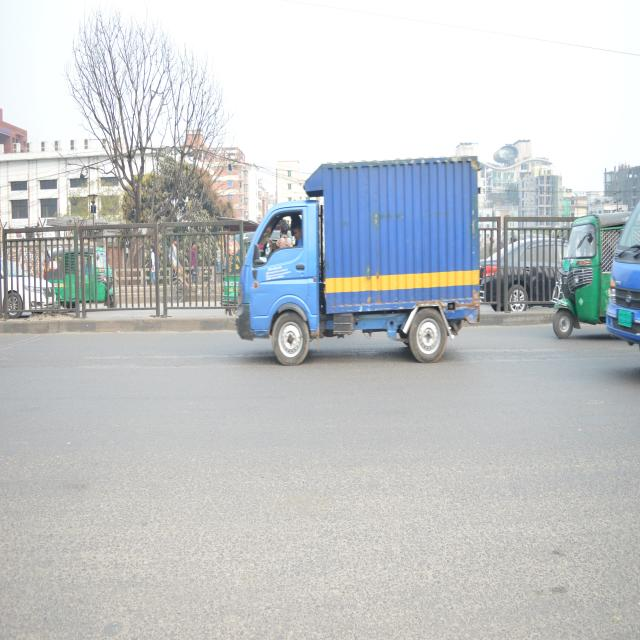car: (482, 236, 563, 311), (0, 256, 59, 318)
pickup-van: (235, 148, 488, 367), (605, 206, 640, 343)
